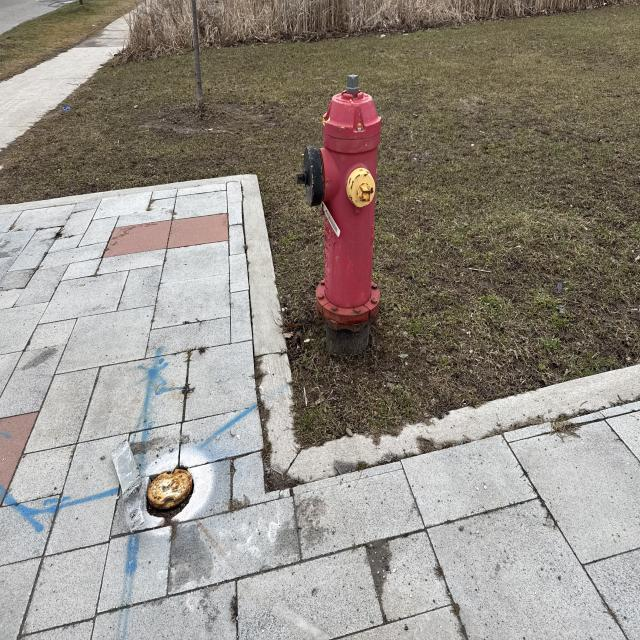Fire hydrant: (294, 74, 382, 334)
